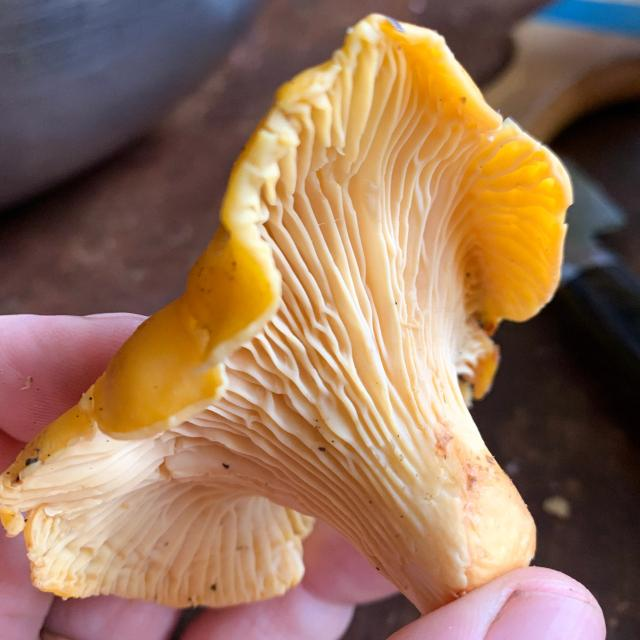chanterelle: (0, 14, 574, 617)
